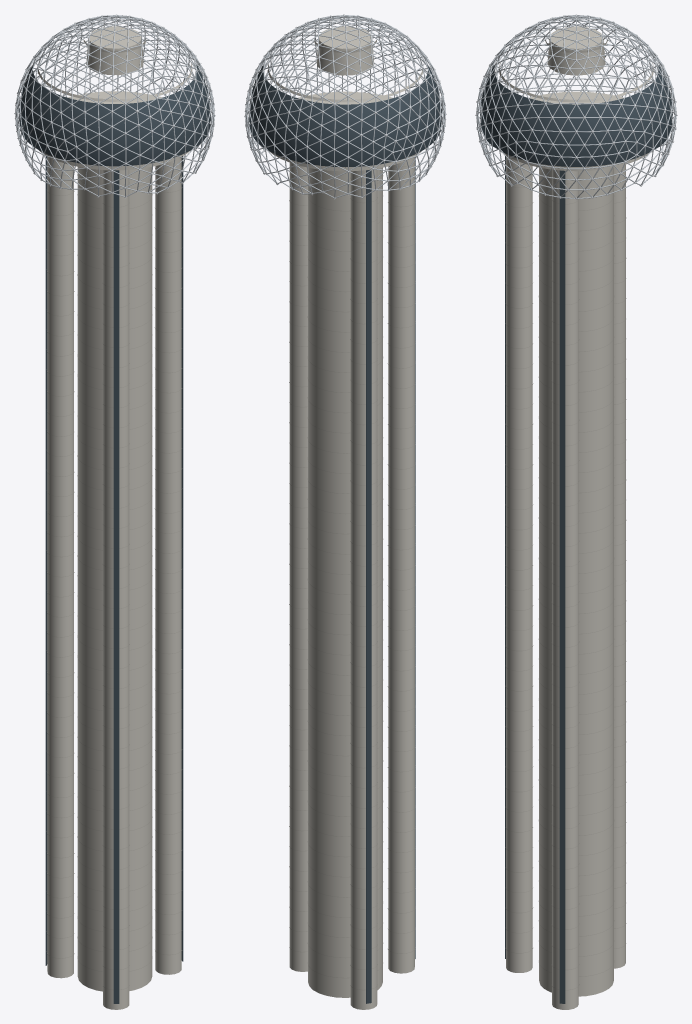
File: reunion-tower-near.glb
3 views of the same model, side by side, from view 1: azimuth 30°, elevation 25°; view 2: azimuth 150°, elevation 25°; view 3: azimuth 270°, elevation 25° (orthographic).
Parts seen in each view (by area): view 1: reunion-tower-0-concrete, reunion-tower-0-glass, reunion-tower-0-metal, reunion-tower-0-concrete_dark, reunion-tower-0-glow, reunion-tower-0-light; view 2: reunion-tower-0-concrete, reunion-tower-0-glass, reunion-tower-0-metal, reunion-tower-0-concrete_dark, reunion-tower-0-glow, reunion-tower-0-light; view 3: reunion-tower-0-concrete, reunion-tower-0-glass, reunion-tower-0-metal, reunion-tower-0-concrete_dark, reunion-tower-0-glow, reunion-tower-0-light.
Boxes of the visible parts, x1,y1,x2,y2 form: reunion-tower-0-concrete: (38, 26, 192, 1009); reunion-tower-0-glass: (19, 63, 210, 1003); reunion-tower-0-metal: (15, 15, 214, 196); reunion-tower-0-concrete_dark: (46, 39, 182, 990); reunion-tower-0-glow: (20, 14, 209, 128); reunion-tower-0-light: (14, 55, 215, 171); reunion-tower-0-concrete: (267, 26, 422, 1009); reunion-tower-0-glass: (249, 64, 441, 1003); reunion-tower-0-metal: (245, 15, 445, 197); reunion-tower-0-concrete_dark: (289, 39, 415, 990); reunion-tower-0-glow: (250, 14, 440, 128); reunion-tower-0-light: (244, 55, 446, 172); reunion-tower-0-concrete: (499, 26, 653, 1009); reunion-tower-0-glass: (480, 62, 672, 1003); reunion-tower-0-metal: (476, 15, 676, 198); reunion-tower-0-concrete_dark: (505, 38, 626, 990); reunion-tower-0-glow: (480, 14, 672, 120); reunion-tower-0-light: (475, 52, 677, 169).
Bounding box in the file's own units: 32.82 × 171 × 32.82.
